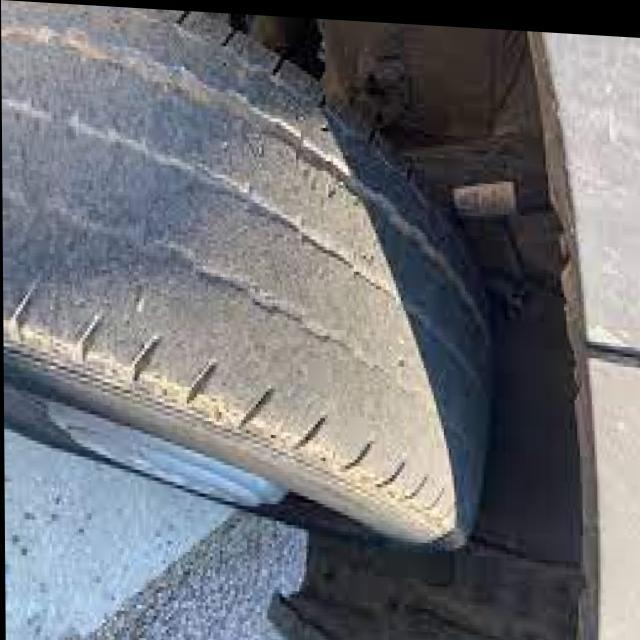Flat spots: (3, 70, 288, 332), (292, 138, 390, 428)
